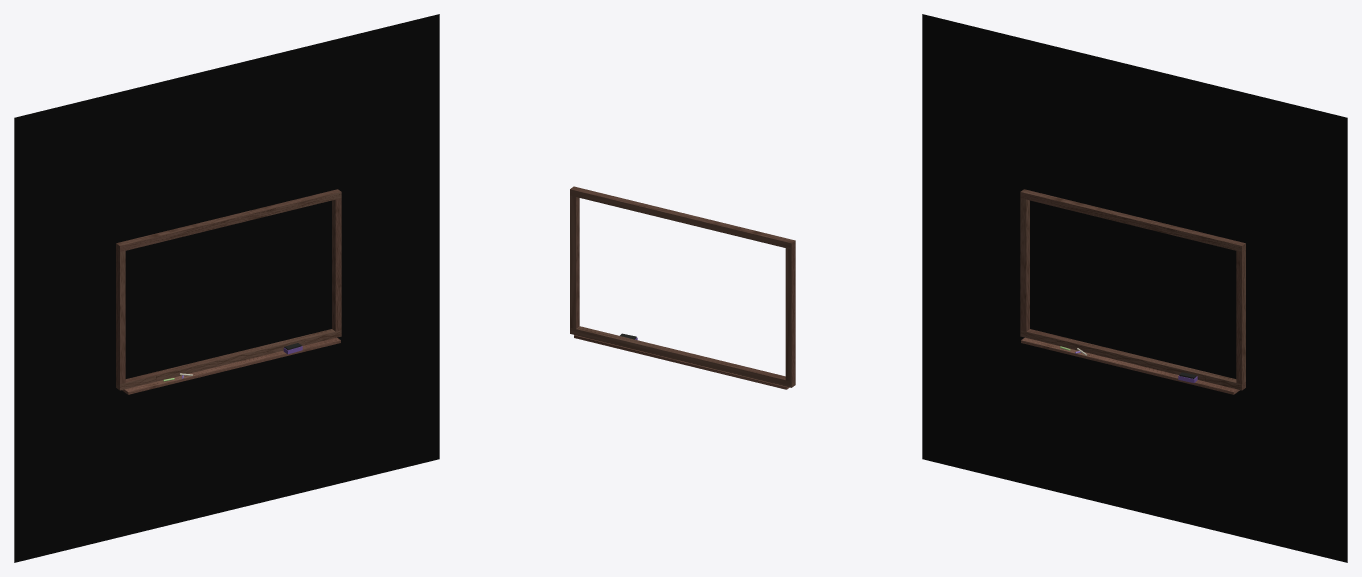
File: blender_scene.glb
The picture shows the model from 3 angles, left to right: view 1: azimuth 30°, elevation 25°; view 2: azimuth 150°, elevation 25°; view 3: azimuth 330°, elevation 25°; orthographic projection.
Parts seen in each view (by area): view 1: vignette, borderT, borderB, tray, borderL, borderR; view 2: borderT, borderB, borderL, borderR, tray; view 3: vignette, borderT, borderB, tray, borderR, borderL.
Boxes of the visible parts, box(x1,y1,x2,y2) form: vignette: box(14, 14, 439, 562); borderT: box(116, 189, 341, 251); borderB: box(116, 329, 341, 390); tray: box(122, 337, 340, 394); borderL: box(116, 249, 125, 384); borderR: box(332, 198, 341, 331); borderT: box(570, 186, 795, 249); borderB: box(570, 326, 795, 387); borderL: box(785, 247, 795, 381); borderR: box(570, 195, 579, 328); tray: box(574, 335, 789, 389); vignette: box(922, 14, 1347, 562); borderT: box(1020, 189, 1245, 251); borderB: box(1020, 329, 1245, 390); tray: box(1021, 337, 1239, 394); borderR: box(1236, 249, 1245, 384); borderL: box(1020, 198, 1029, 331).
Bounding box in the file's own units: 30 × 30 × 1.15.
12 materials, 7 textured.
